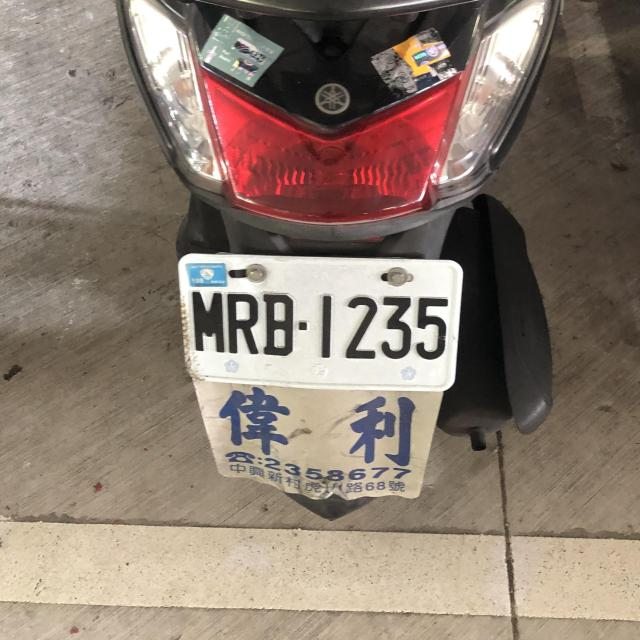W: (172, 245, 464, 393)
